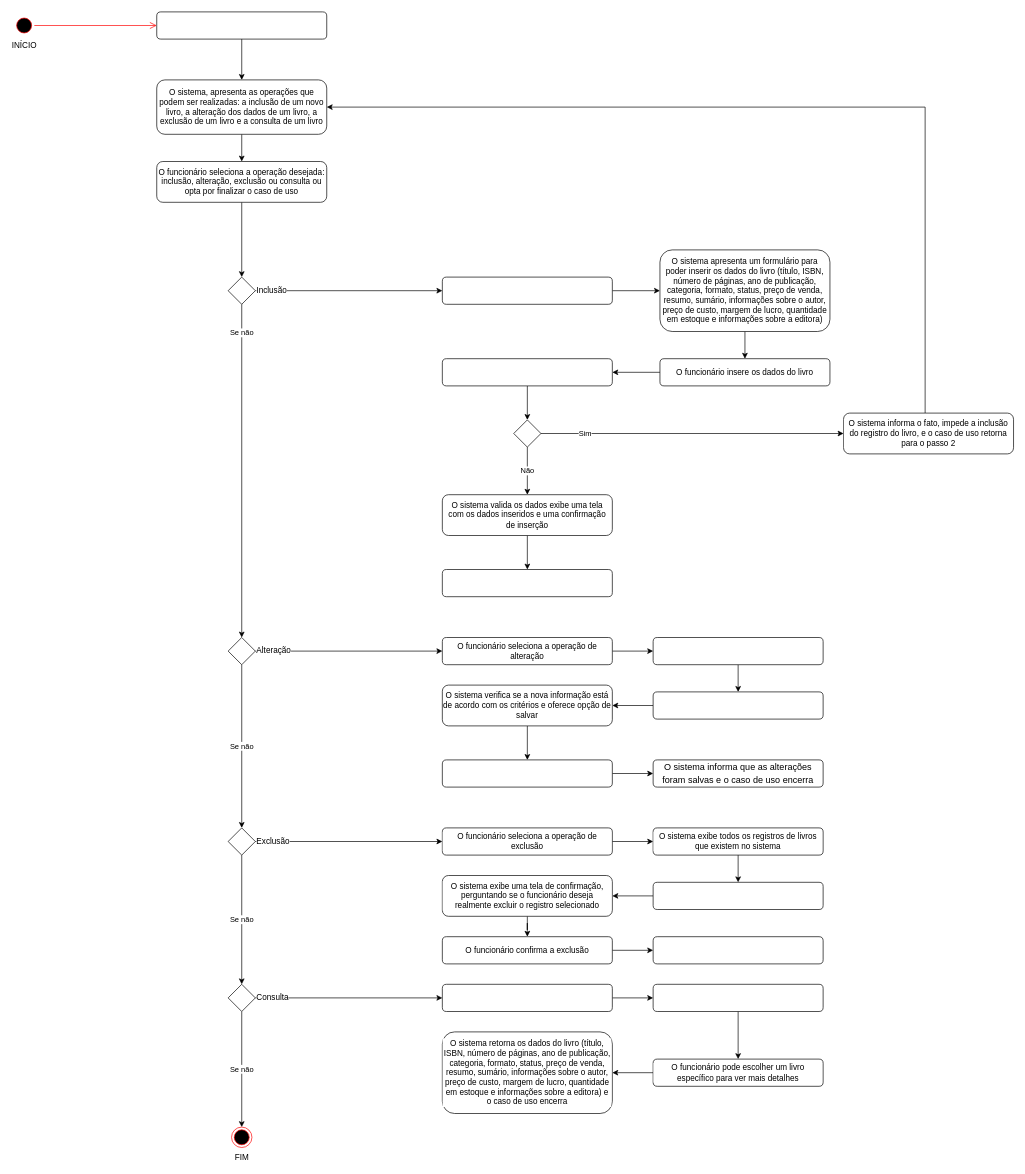
Image size: 1025x1174. Some labels were removed from this diagram. Here are the shapes that lost their labels. From the top down, the centre of each, then its label:
At point 241,25: "O funcionário requisita a manutenção dos dados do livro".
At point 527,290: "O funcionário seleciona a operação de inclusão".
At point 527,372: "Sistema valida quantidade em estoque e verifica se é menor que 2".
At point 527,583: "O funcionário confirma a inserção e o caso de uso encerra".
At point 737,651: "O sistema apresenta a página com os dados atuais e com os campos editáveis".
At point 737,705: "O funcionário seleciona o campo que deseja editar e altera a informação".
At point 527,773: "O funcionário salva as alterações realizadas".
At point 737,896: "O funcionário escolhe qual registro ele quer excluir".
At point 737,950: "O sistema excluí efetivamente o registro e o caso de uso se encerra".
At point 527,998: "O funcionário seleciona a operação de consulta".
At point 737,998: "O sistema retorna os dados do livro".
